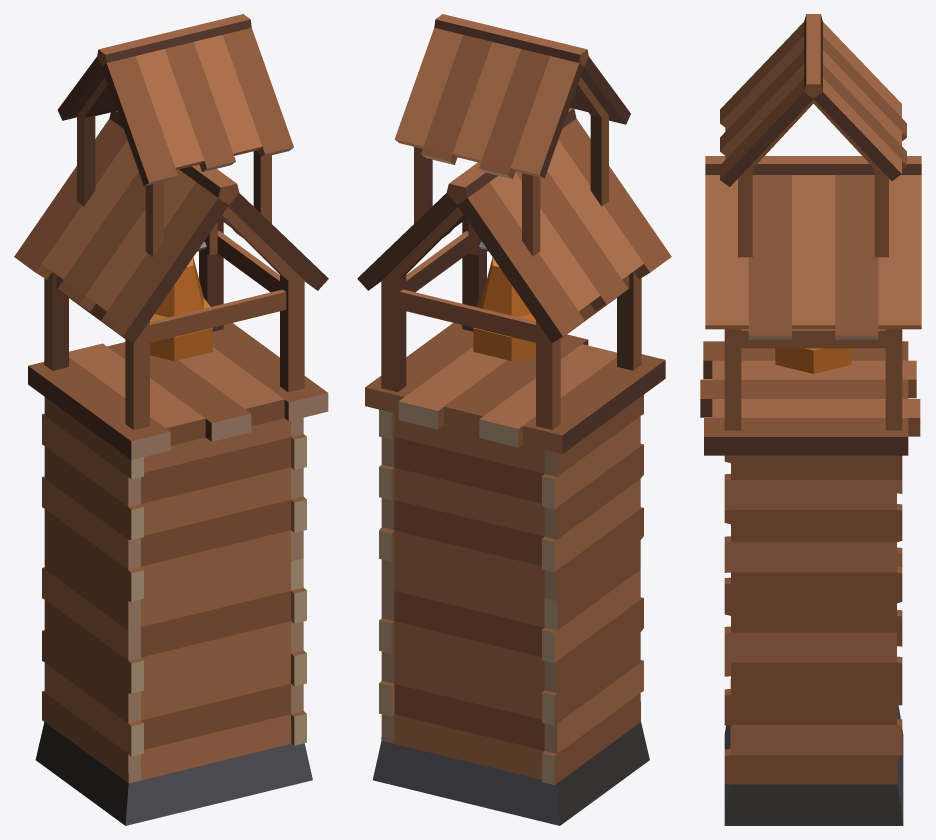
The model's file is TB_Bd_BellTower.FBX.
The picture shows the model from 3 angles, left to right: view 1: azimuth 30°, elevation 25°; view 2: azimuth 150°, elevation 25°; view 3: azimuth 270°, elevation 25°; orthographic projection.
Parts seen in each view (by area): view 1: TB_Bd_BellTower, TB_Bd_Bell; view 2: TB_Bd_BellTower, TB_Bd_Bell; view 3: TB_Bd_BellTower, TB_Bd_Bell.
Boxes of the visible parts, x1,y1,x2,y2 form: TB_Bd_BellTower: (14,14,328,825); TB_Bd_Bell: (150,257,212,361); TB_Bd_BellTower: (357,14,671,825); TB_Bd_Bell: (473,257,535,360); TB_Bd_BellTower: (700,14,921,825); TB_Bd_Bell: (775,348,851,373).
Size of the model in its own units: 3.08 by 10.21 by 2.8.
